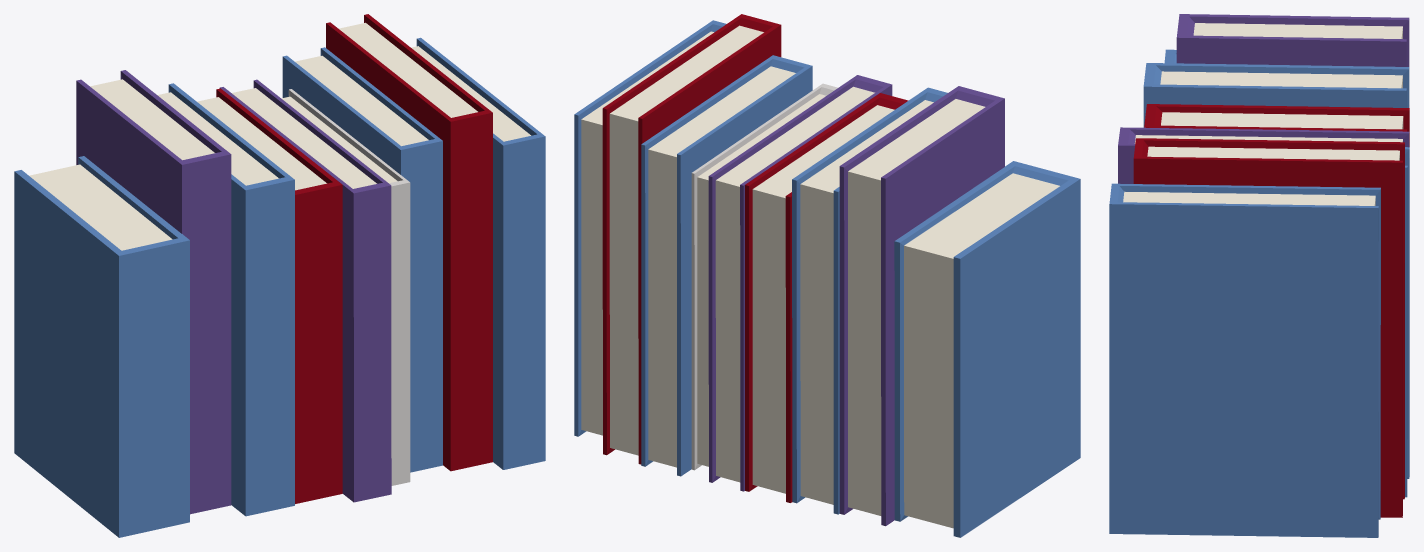
File: Bedroom3_Books5.fbx
3 views of the same model, side by side, from view 1: azimuth 30°, elevation 25°; view 2: azimuth 150°, elevation 25°; view 3: azimuth 270°, elevation 25° (orthographic). The views are drawn at different scales.
Visible parts, largest first — view 1: Bedroom3_Books5; view 2: Bedroom3_Books5; view 3: Bedroom3_Books5.
Part boxes in pixels (bbox=[...]): Bedroom3_Books5: bbox=[14, 14, 545, 537]; Bedroom3_Books5: bbox=[574, 14, 1080, 537]; Bedroom3_Books5: bbox=[1109, 14, 1409, 537].
Bounding box in the file's own units: 52.83 × 33.26 × 43.6.
